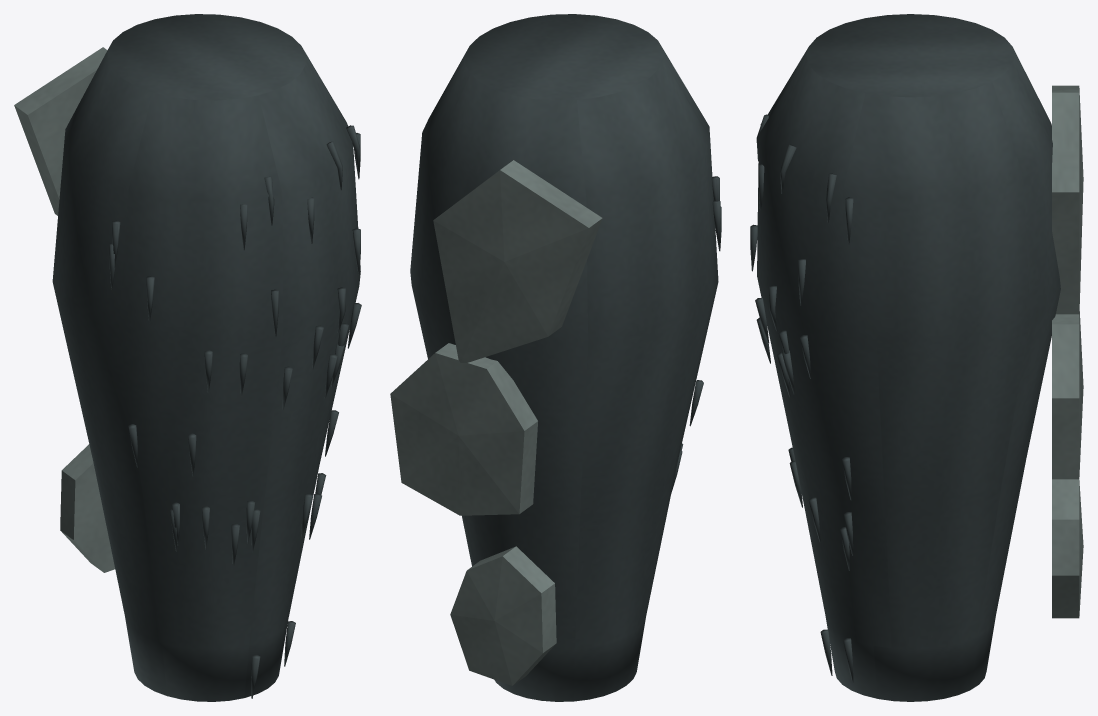
The model's file is shin_r_lod0.glb.
3 views of the same model, side by side, from view 1: azimuth 30°, elevation 25°; view 2: azimuth 150°, elevation 25°; view 3: azimuth 270°, elevation 25° (orthographic).
Parts seen in each view (by area): view 1: dormin_shin_r_LOD0; view 2: dormin_shin_r_LOD0; view 3: dormin_shin_r_LOD0.
Part boxes in pixels (x1,y1,x2,y2): dormin_shin_r_LOD0: [14, 14, 361, 701]; dormin_shin_r_LOD0: [390, 14, 721, 701]; dormin_shin_r_LOD0: [750, 14, 1083, 701].
Bounding box in the file's own units: 1.64 × 3.59 × 1.76.
2 materials, 2 textured.
